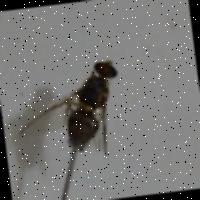Oriental-fruit-fly: (0, 25, 140, 177)
